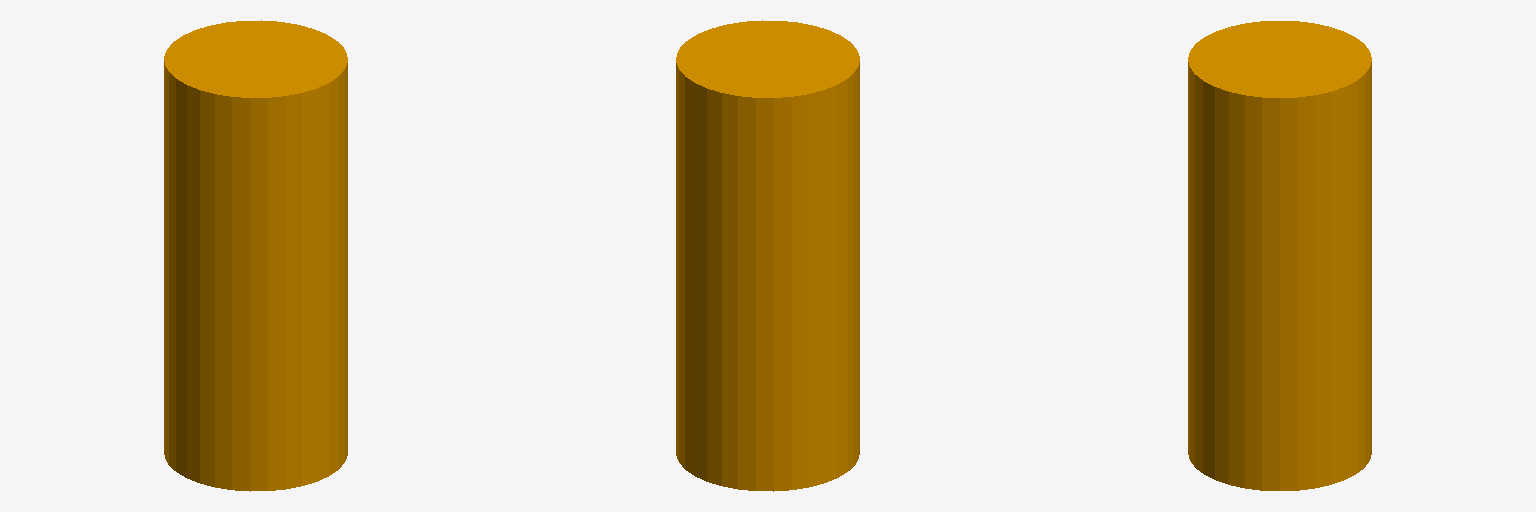
robot.urdf — binggan:
<robot name="binggan">
  <link name="link">
    <inertial>
      <origin xyz="0 0 0" />
      <mass value="0.1" />
      <!-- (1/12)*mass*(h^2)  (1/12)*mass*(h^2) (1/2)*mass*(r^2) -->
      <inertia  ixx="0.000226875" ixy="0.0"  ixz="0.0"  iyy="0.000226875"  iyz="0.0"  izz="0.00006125" />
    </inertial>
    <visual>
      <origin xyz="0 0 0"/>
      <geometry>
        <cylinder length="0.165" radius="0.035"/>
      </geometry>
    </visual>
    <collision>
      <origin xyz="0 0 0"/>
      <geometry>
        <cylinder length="0.165" radius="0.035"/>
      </geometry>
    </collision>
  </link>
  <gazebo reference="link">
    <material>Gazebo/Blue</material>
    <mu1>1000</mu1>
    <mu2>1000</mu2>
    <maxVel>0.0</maxVel>
    <minDepth>0.0001</minDepth>
    <turnGravityOff>0</turnGravityOff>
  </gazebo>
</robot>

--- Facts derived from the render (not from the file) ---
The picture shows the robot from 3 angles, left to right: view 1: azimuth 30°, elevation 25°; view 2: azimuth 150°, elevation 25°; view 3: azimuth 270°, elevation 25°; orthographic projection.
Robot: binggan — 1 links, 0 joints (none); root link link; default pose: every joint at zero.
Visible links, largest first — view 1: link; view 2: link; view 3: link.
Boxes of the visible links, left/top/right/bottom form: link: left=164, top=20, right=347, bottom=491; link: left=676, top=20, right=859, bottom=491; link: left=1188, top=21, right=1371, bottom=490.
Size in the robot's own frame: 0.07 by 0.07 by 0.165 metres.
Geometry: primitives only (box / cylinder / sphere), no mesh files.
